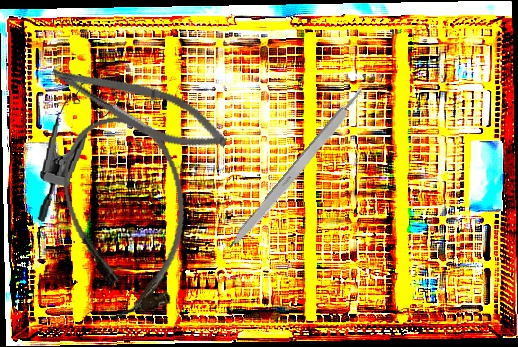Cannula: (52, 107, 202, 324)
Micro Scissor: (42, 54, 235, 163)
Scalpel Handle: (225, 84, 371, 254)
Speculum: (35, 71, 123, 228)
